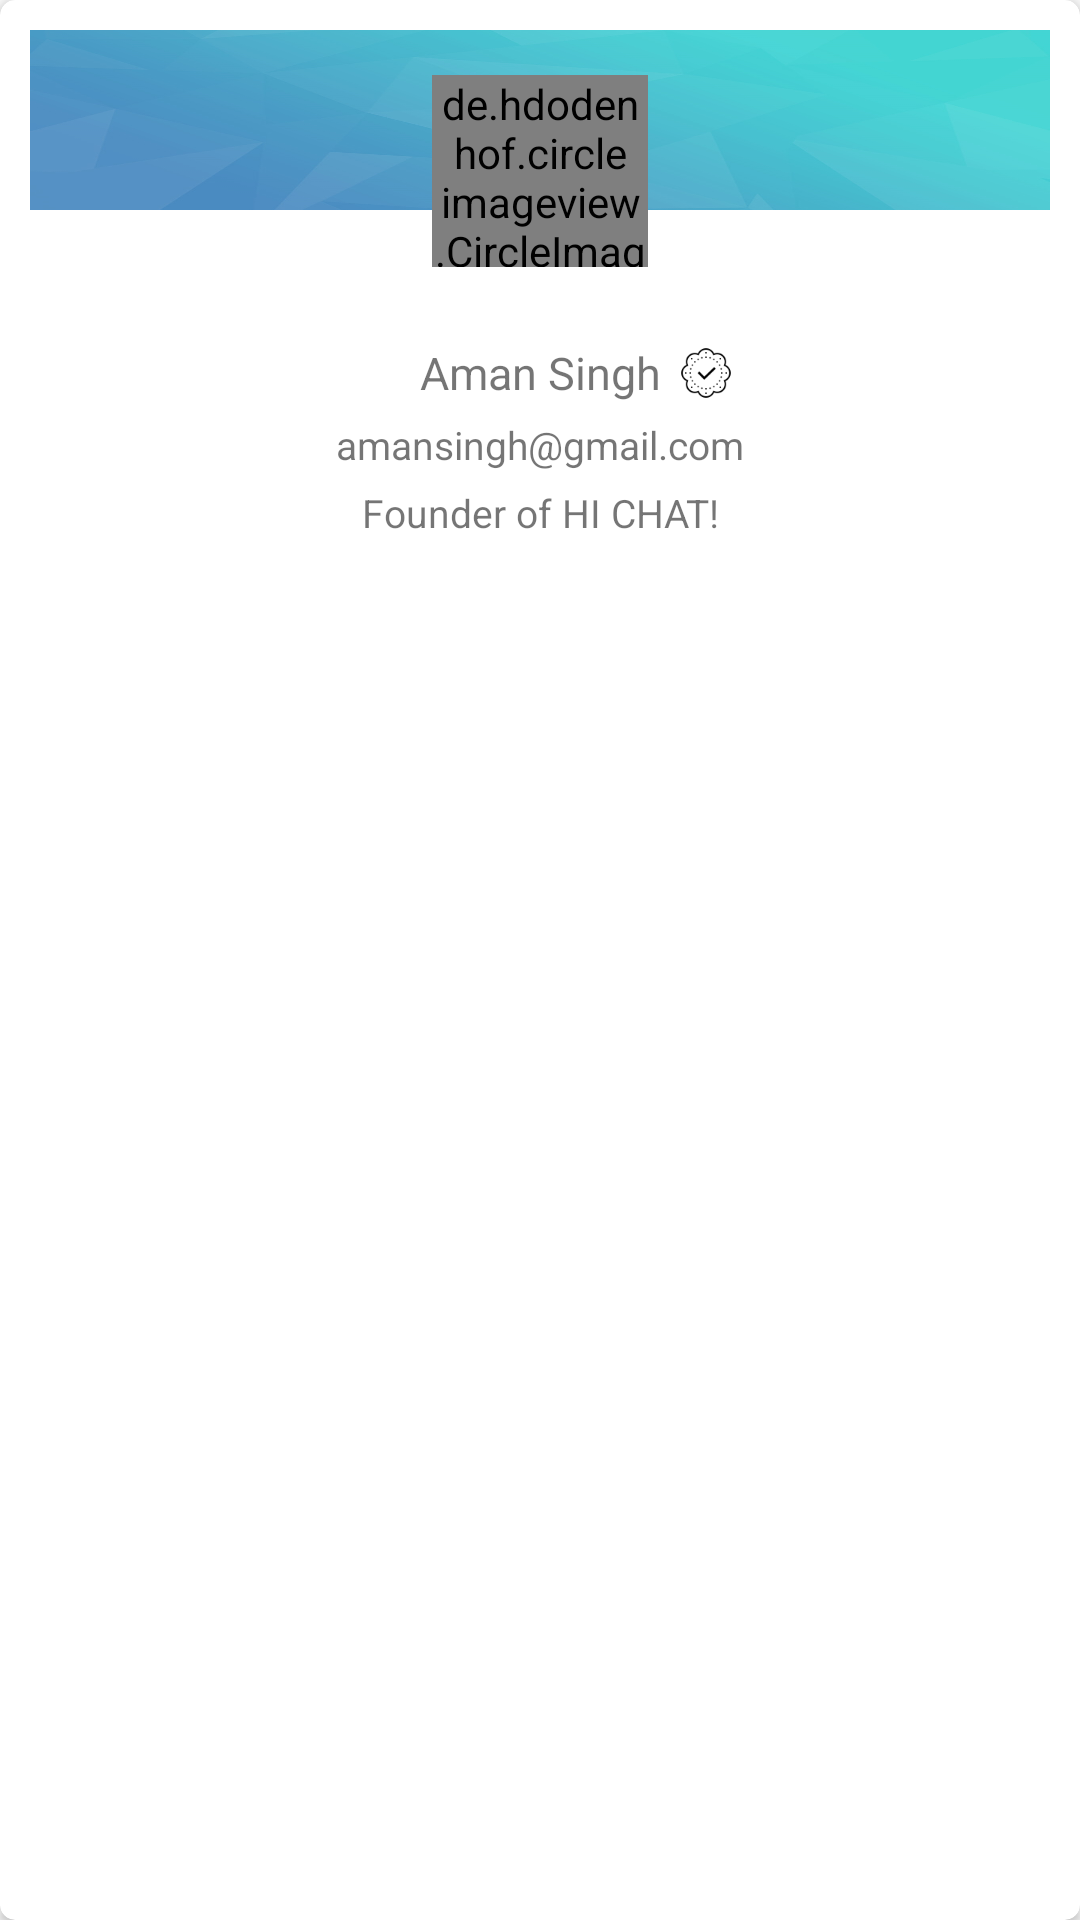

Point at icon controls on the screen. Image size 1080×1920, points as (x,y).
verified: (706,373)
